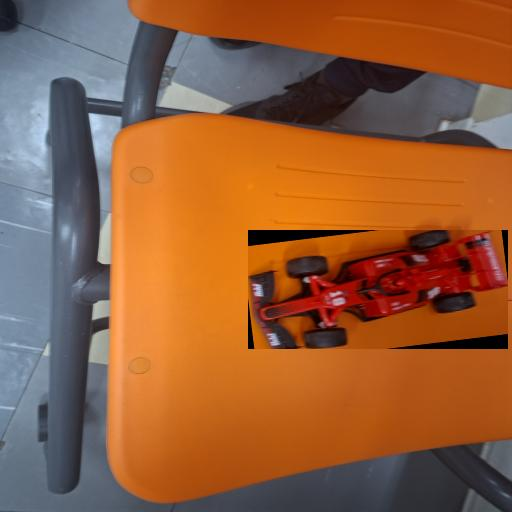carro: (248, 230, 508, 349)
